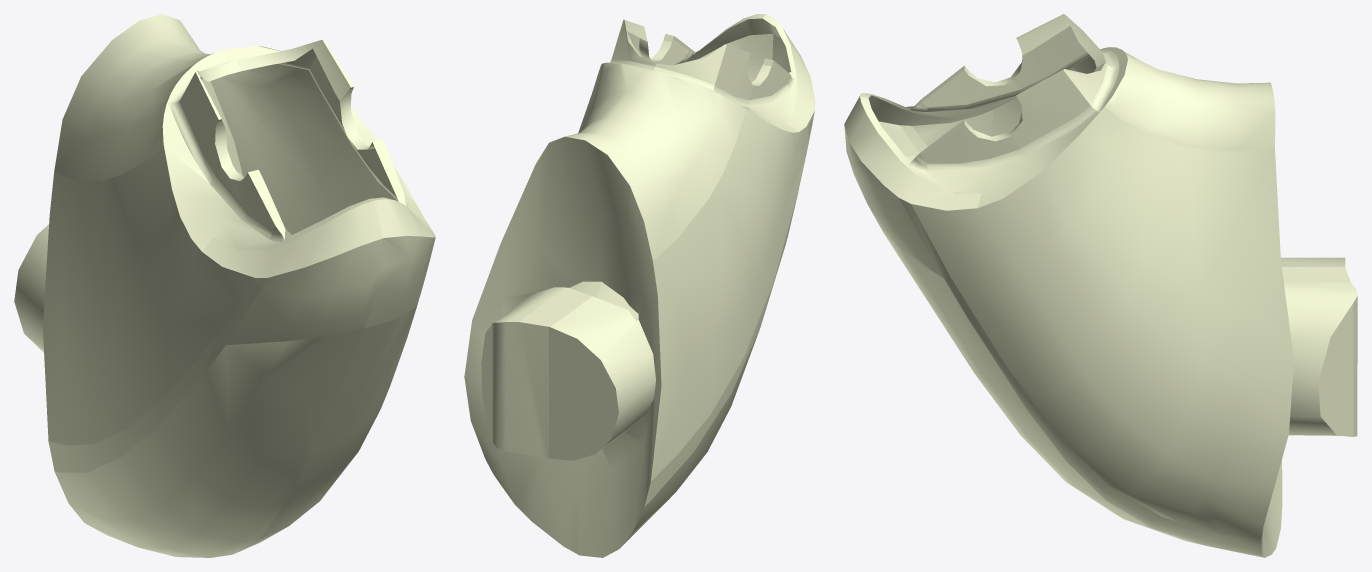
Rendered from left_thumb_base.dae.
3 renders of one model, left to right at view 1: azimuth 30°, elevation 25°; view 2: azimuth 150°, elevation 25°; view 3: azimuth 270°, elevation 25°, orthographic. The views are drawn at different scales.
Visible parts, largest first — view 1: ShapeIndexedFaceSet; view 2: ShapeIndexedFaceSet; view 3: ShapeIndexedFaceSet.
Boxes of the visible parts, x1,y1,x2,y2 form: ShapeIndexedFaceSet: (14, 14, 435, 557); ShapeIndexedFaceSet: (464, 14, 815, 557); ShapeIndexedFaceSet: (844, 14, 1357, 557).
Bounding box in the file's own units: 0.0469 × 0.0924 × 0.1006.
